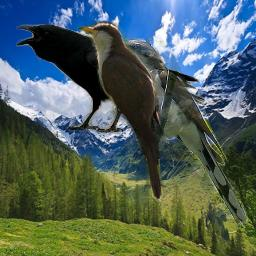Crow: (16, 24, 206, 135)
Cuckoo: (106, 38, 248, 226), (77, 21, 167, 203)
